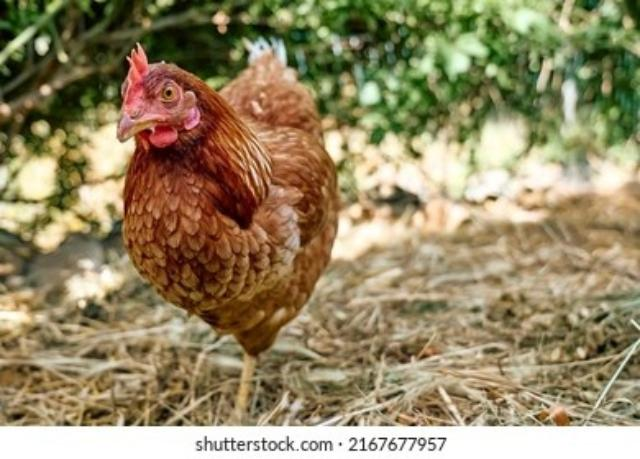Chicken: (116, 40, 338, 422)
